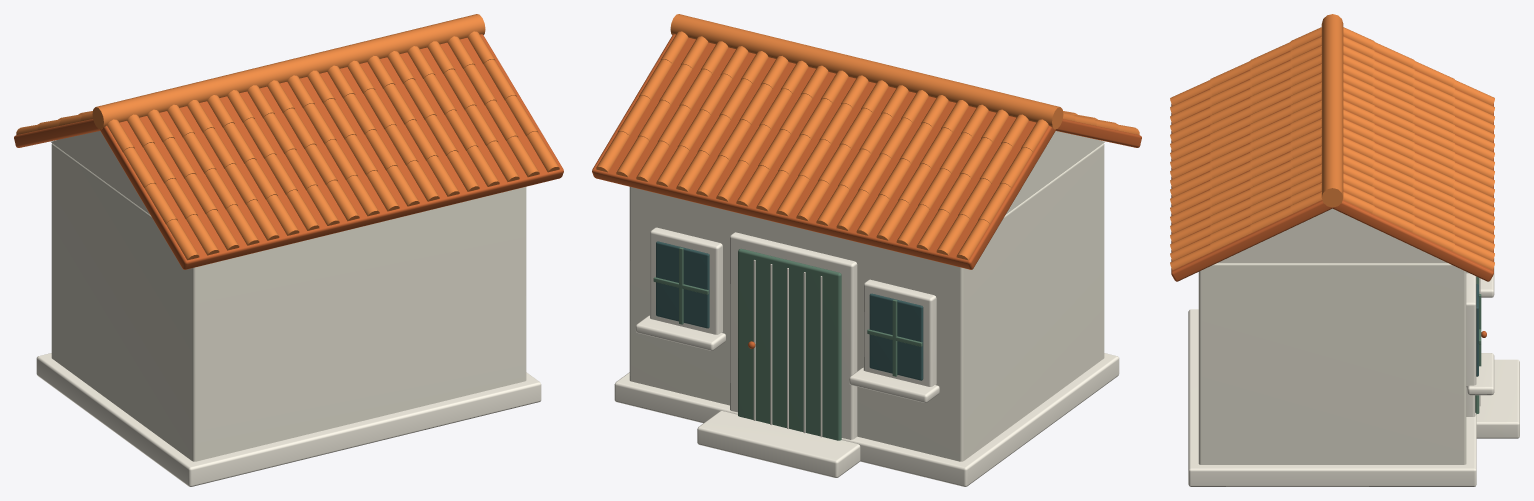
The model's file is house.glb.
The picture shows the model from 3 angles, left to right: view 1: azimuth 30°, elevation 25°; view 2: azimuth 150°, elevation 25°; view 3: azimuth 270°, elevation 25°; orthographic projection. The views are drawn at different scales.
Parts seen in each view (by area): view 1: house_warm plaster, house_sunlit terracotta, house_terracotta, house_limestone trim; view 2: house_warm plaster, house_sunlit terracotta, house_limestone trim, house_terracotta, house_sage doors, house_dark teal glass; view 3: house_warm plaster, house_sunlit terracotta, house_limestone trim, house_terracotta.
Boxes of the visible parts, x1=… form: house_warm plaster: x1=51, y1=131, x2=526, y2=461; house_sunlit terracotta: x1=16, y1=14, x2=559, y2=260; house_terracotta: x1=14, y1=34, x2=563, y2=269; house_limestone trim: x1=36, y1=353, x2=541, y2=486; house_warm plaster: x1=629, y1=131, x2=1104, y2=461; house_sunlit terracotta: x1=596, y1=14, x2=1139, y2=260; house_limestone trim: x1=614, y1=227, x2=1119, y2=486; house_terracotta: x1=592, y1=34, x2=1141, y2=348; house_sage doors: x1=653, y1=247, x2=922, y2=440; house_dark teal glass: x1=656, y1=241, x2=923, y2=380; house_warm plaster: x1=1198, y1=208, x2=1466, y2=464; house_sunlit terracotta: x1=1170, y1=14, x2=1494, y2=270; house_limestone trim: x1=1188, y1=258, x2=1519, y2=486; house_terracotta: x1=1171, y1=35, x2=1493, y2=337.
Bounding box in the file's own units: 4 × 3.29 × 3.4.
